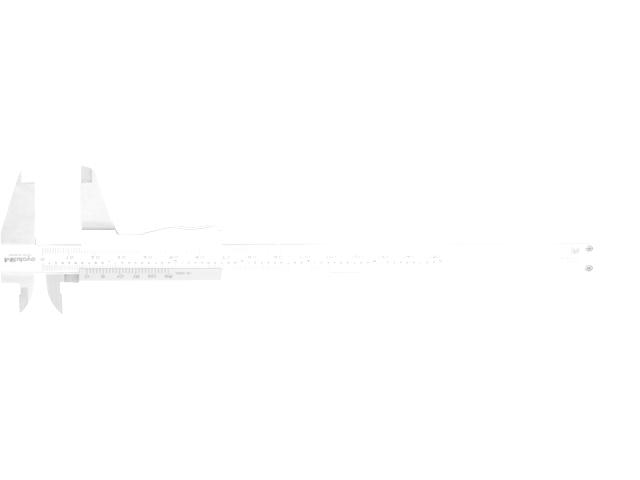Calipers: (0, 166, 639, 313)
